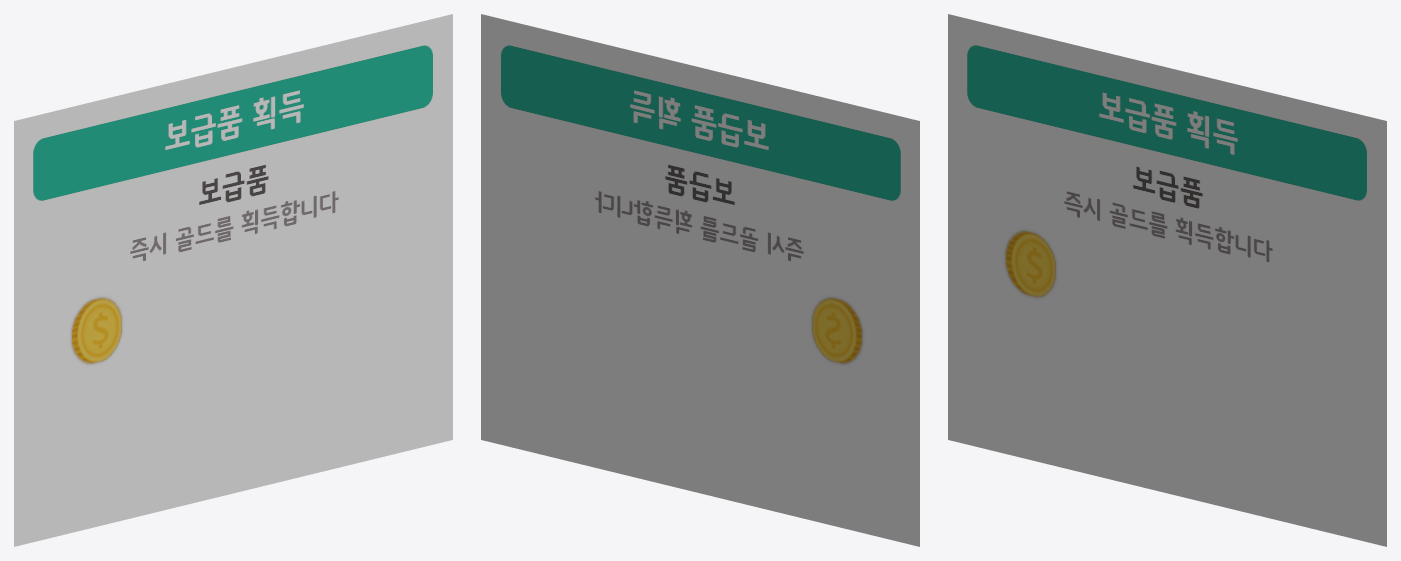
Rendered from SupplyEvent.fbx.
The picture shows the model from 3 angles, left to right: view 1: azimuth 30°, elevation 25°; view 2: azimuth 150°, elevation 25°; view 3: azimuth 330°, elevation 25°; orthographic projection.
Parts seen in each view (by area): view 1: Plane001; view 2: Plane001; view 3: Plane001.
Part boxes in pixels (x1=…): Plane001: x1=14, y1=14, x2=452, y2=546; Plane001: x1=481, y1=14, x2=919, y2=546; Plane001: x1=948, y1=14, x2=1386, y2=546.
Size of the model in its own units: 284 by 263 by 4.29e-05.
